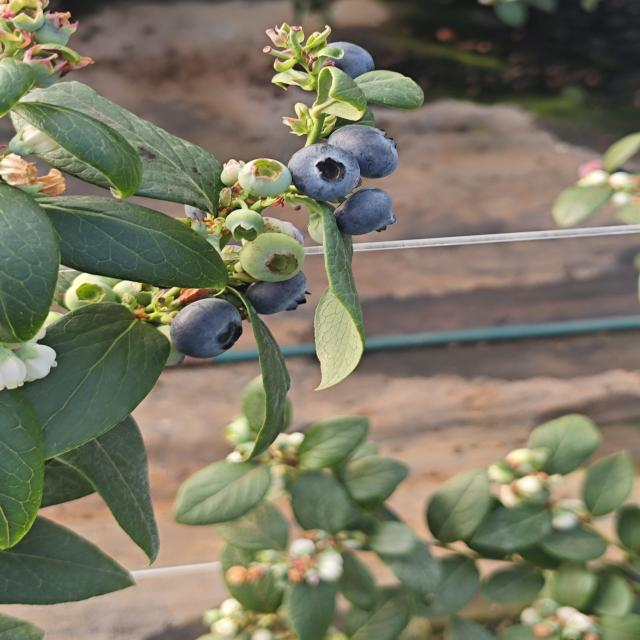ripe: (241, 256, 321, 320), (167, 296, 245, 361), (285, 142, 363, 204), (324, 123, 400, 180), (332, 186, 398, 238), (317, 40, 377, 81)
